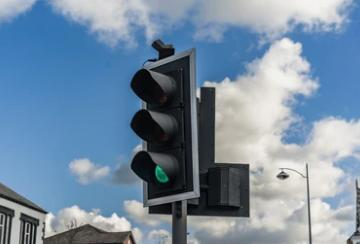green_light: (130, 47, 200, 207)
